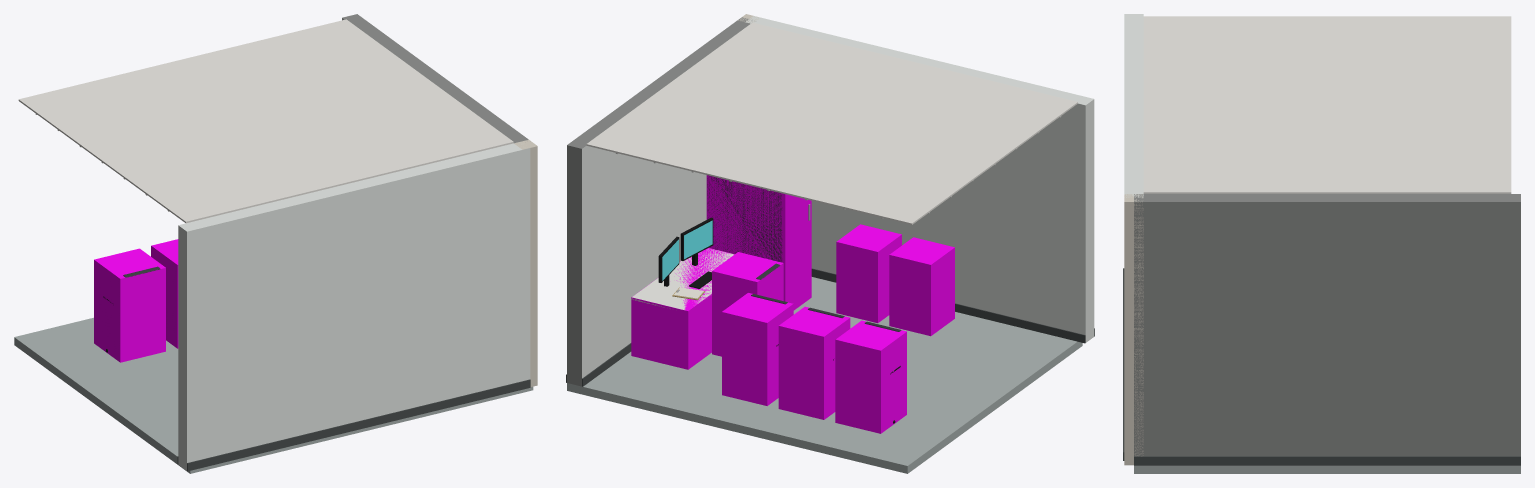
Rendered from ENV_ObservationMonitoring.glb.
3 renders of one model, left to right at view 1: azimuth 30°, elevation 25°; view 2: azimuth 150°, elevation 25°; view 3: azimuth 270°, elevation 25°, orthographic. The views are drawn at different scales.
Visible parts, largest first — view 1: ENV_ObservationMonitoring_Architecture, ENV_ObservationMonitoring_Ceiling, PROP_Chair_Office_COL-colonly.009, ENV_ObservationMonitoring_Posts, PROP_Chair_Office_COL-colonly.010; view 2: ENV_ObservationMonitoring_Architecture, ENV_ObservationMonitoring_Ceiling, PROP_Rack_Server_42U_COL-colonly.001, PROP_Chair_Office_COL-colonly.009, PROP_Chair_Office_COL-colonly.010, PROP_Chair_Office_COL-colonly.011, PROP_Desk_Workstation_Dual_COL-colonly.002, PROP_Chair_Visitor_COL-colonly.002, PROP_Chair_Visitor_COL-colonly.003, PROP_Chair_Office_COL-colonly.008, PROP_Desk_Workstation_Dual_Mesh.002, PROP_Rack_Server_42U_Mesh.001 (+1 smaller); view 3: ENV_ObservationMonitoring_Architecture, ENV_ObservationMonitoring_Ceiling, ENV_ObservationMonitoring_Posts.
Part boxes in pixels (x1,y1,x2,y2): ENV_ObservationMonitoring_Architecture: [14, 14, 533, 473]; ENV_ObservationMonitoring_Ceiling: [18, 19, 513, 223]; PROP_Chair_Office_COL-colonly.009: [94, 248, 165, 362]; ENV_ObservationMonitoring_Posts: [514, 139, 537, 386]; PROP_Chair_Office_COL-colonly.010: [151, 239, 178, 348]; ENV_ObservationMonitoring_Architecture: [566, 16, 1094, 473]; ENV_ObservationMonitoring_Ceiling: [586, 22, 1077, 224]; PROP_Rack_Server_42U_COL-colonly.001: [706, 175, 811, 310]; PROP_Chair_Office_COL-colonly.009: [835, 320, 906, 433]; PROP_Chair_Office_COL-colonly.010: [778, 306, 850, 419]; PROP_Chair_Office_COL-colonly.011: [722, 293, 793, 405]; PROP_Desk_Workstation_Dual_COL-colonly.002: [631, 248, 733, 369]; PROP_Chair_Visitor_COL-colonly.002: [889, 237, 954, 336]; PROP_Chair_Visitor_COL-colonly.003: [836, 224, 901, 323]; PROP_Chair_Office_COL-colonly.008: [712, 252, 783, 356]; PROP_Desk_Workstation_Dual_Mesh.002: [631, 217, 734, 309]; PROP_Rack_Server_42U_Mesh.001: [707, 175, 810, 261]; ENV_ObservationMonitoring_Architecture: [1123, 14, 1520, 473]; ENV_ObservationMonitoring_Ceiling: [1143, 16, 1511, 193]; ENV_ObservationMonitoring_Posts: [1124, 194, 1143, 465].
Size of what is drawn, in the model's own units: 4.61 by 3.12 by 4.11.
